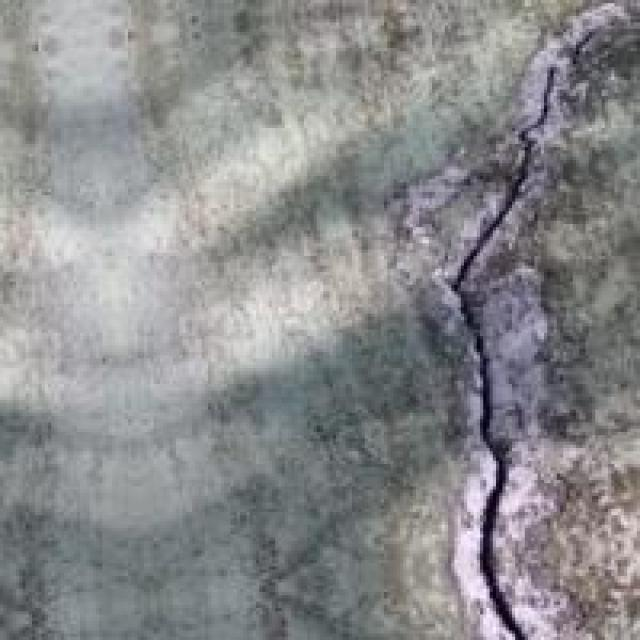Crack: (400, 9, 637, 636)
